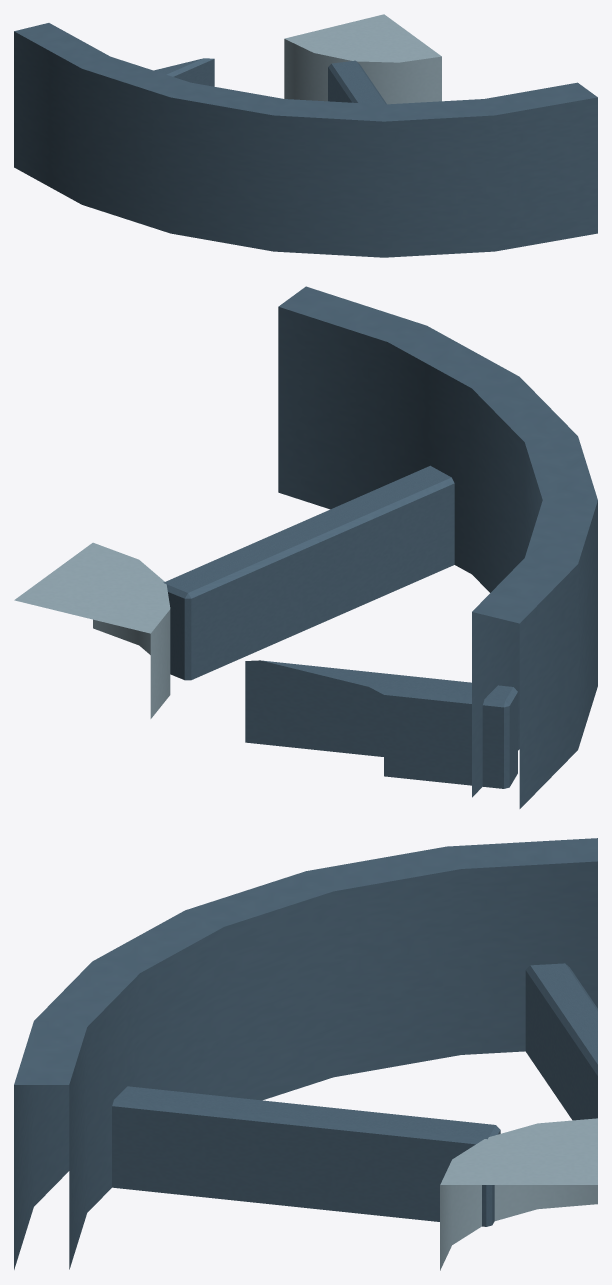
The model's file is cell_18.obj.
The picture shows the model from 3 angles, top to bottom: view 1: azimuth 30°, elevation 25°; view 2: azimuth 150°, elevation 25°; view 3: azimuth 270°, elevation 25°; orthographic projection. The views are drawn at different scales.
Parts seen in each view (by area): view 1: cell_18; view 2: cell_18; view 3: cell_18.
Boxes of the visible parts, box(x1,y1,x2,y2) form: cell_18: box(14, 14, 597, 257); cell_18: box(14, 286, 597, 808); cell_18: box(14, 838, 597, 1270).
Bounding box in the file's own units: 0.37 × 0.13 × 0.37.
